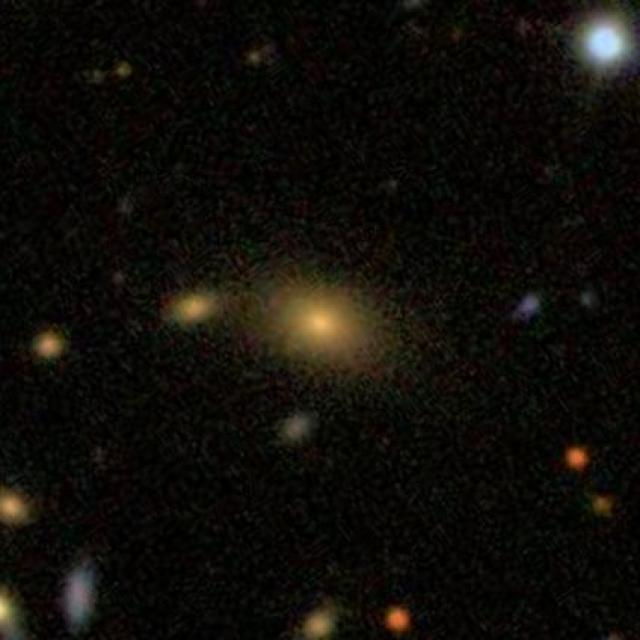galaxy: (239, 263, 403, 381), (570, 8, 636, 90), (161, 282, 227, 331), (57, 561, 100, 629), (295, 601, 343, 639), (1, 486, 40, 529), (277, 412, 319, 445), (1, 583, 25, 640), (34, 325, 71, 360), (511, 290, 546, 325), (239, 44, 281, 73), (380, 602, 415, 636), (590, 490, 621, 522), (562, 442, 591, 472), (113, 58, 138, 86), (112, 269, 129, 291), (581, 293, 597, 314), (388, 176, 402, 192)
